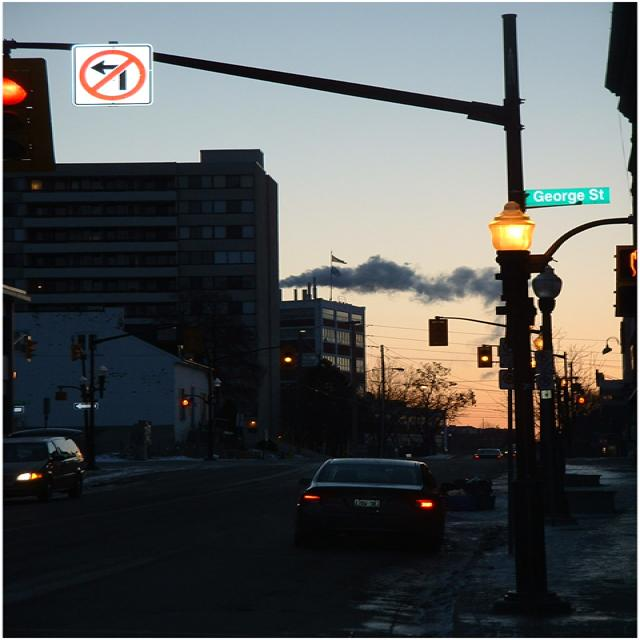Car: (286, 386, 470, 564), (0, 406, 118, 531)
